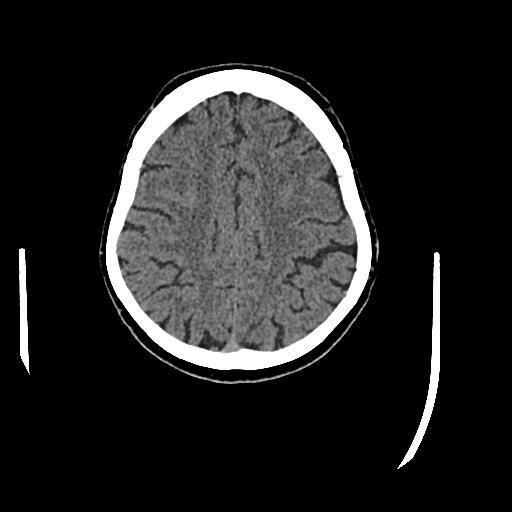Normal_Brain: (101, 50, 383, 400)
